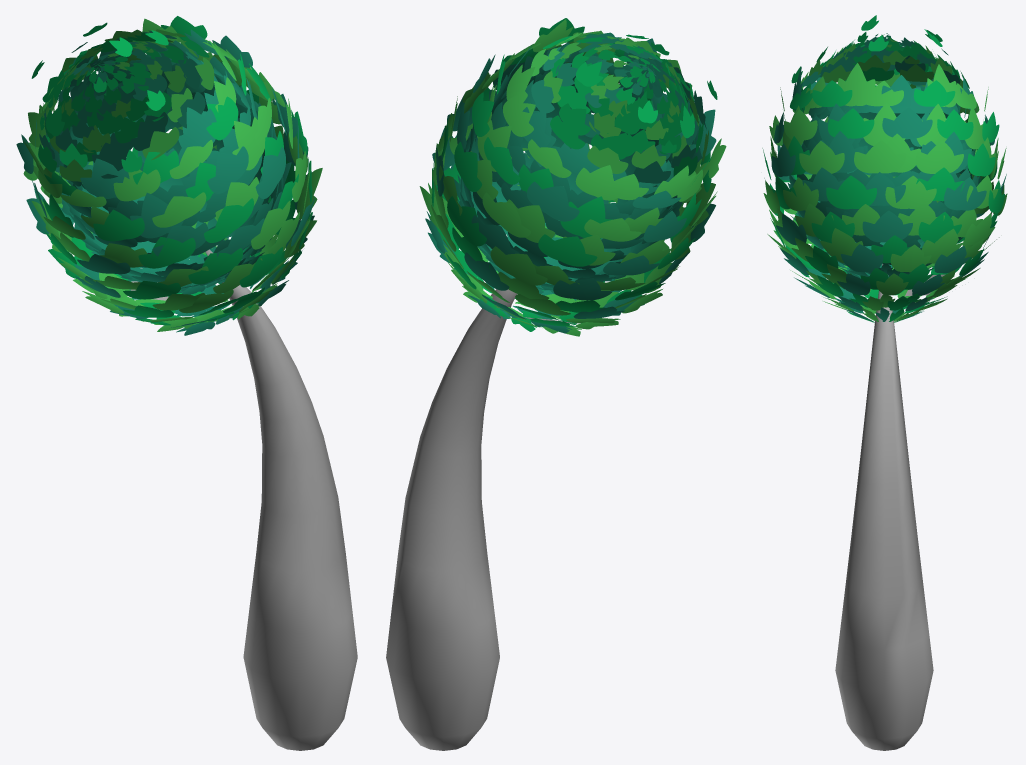
File: tree.fbx
3 renders of one model, left to right at view 1: azimuth 30°, elevation 25°; view 2: azimuth 150°, elevation 25°; view 3: azimuth 270°, elevation 25°, orthographic. The views are drawn at different scales.
Parts seen in each view (by area): view 1: tree; view 2: tree; view 3: tree.
Part boxes in pixels (<box>): tree: <box>16,16,357,750</box>; tree: <box>386,18,726,750</box>; tree: <box>762,15,1007,750</box>.
Size of the model in its own units: 2050 by 4640 by 1654.
4 materials, 3 textured.
